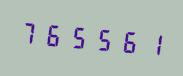five: (66, 17, 89, 55), (90, 19, 113, 57)
one: (138, 24, 161, 62)
seven: (17, 13, 40, 51)
six: (41, 15, 64, 53), (114, 22, 137, 59)
